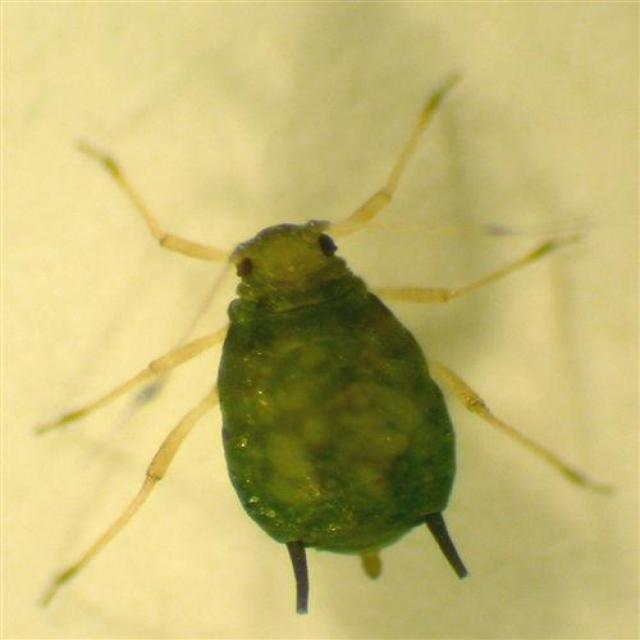Aphids: (59, 81, 601, 614)
